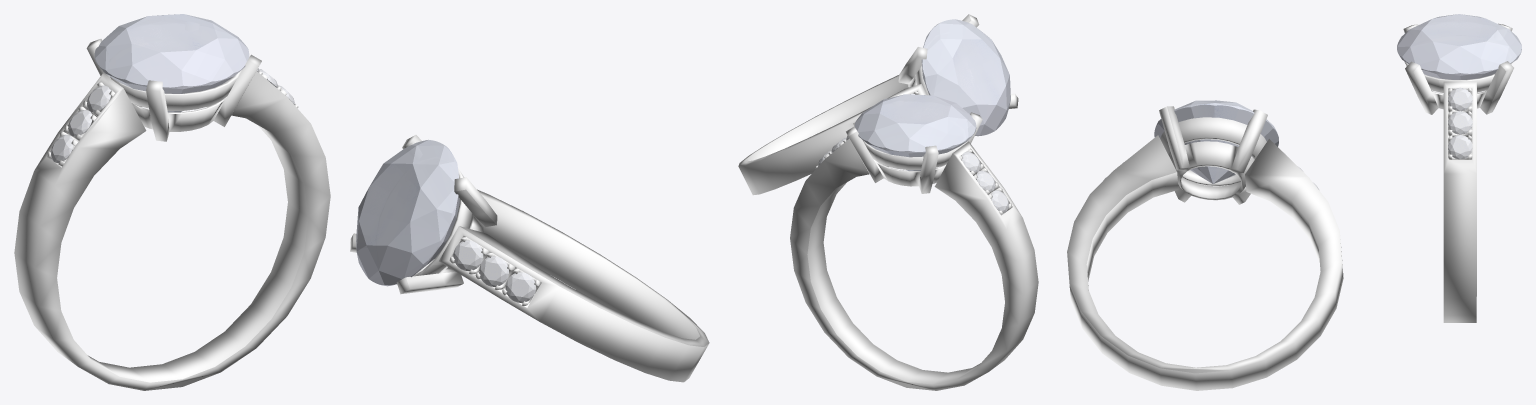
The model's file is tektas_6li.dae.
3 views of the same model, side by side, from view 1: azimuth 30°, elevation 25°; view 2: azimuth 150°, elevation 25°; view 3: azimuth 270°, elevation 25° (orthographic). The views are drawn at different scales.
Parts seen in each view (by area): view 1: group_1 (×5), group_4 (×2), group_3 (×4); view 2: group_1 (×4), group_4 (×2), group_3 (×3); view 3: group_1 (×4), group_3 (×5), group_4 (×2).
Part boxes in pixels (x1,y1,x2,y2): group_1 (×5): (14,71,709,390); group_4 (×2): (94,14,459,286); group_3 (×4): (86,39,497,294); group_1 (×4): (738,75,1038,390); group_4 (×2): (854,19,1010,170); group_3 (×3): (846,14,1018,193); group_1 (×4): (1067,81,1476,390); group_3 (×5): (1159,23,1513,204); group_4 (×2): (1154,14,1521,183).
Size of the model in its own units: 2.67 by 2.6 by 1.76.
Materials: 4 (2 with a texture image).
